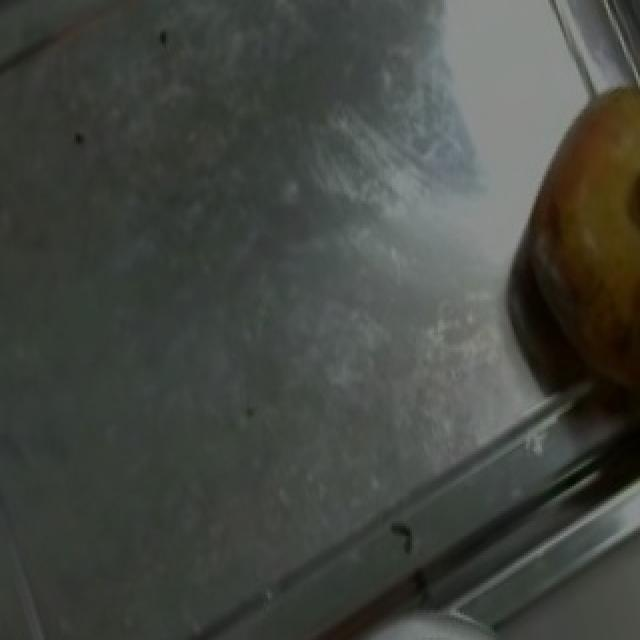fruit: (502, 74, 638, 427)
